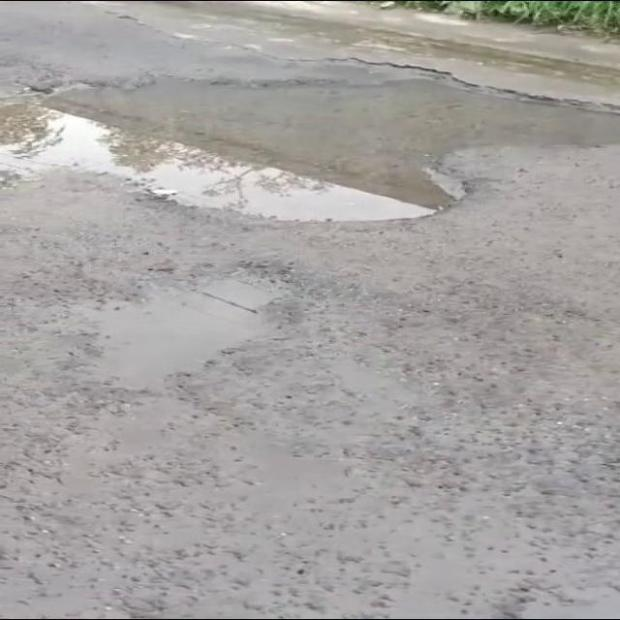lubang: (2, 65, 619, 221), (0, 258, 312, 400)
